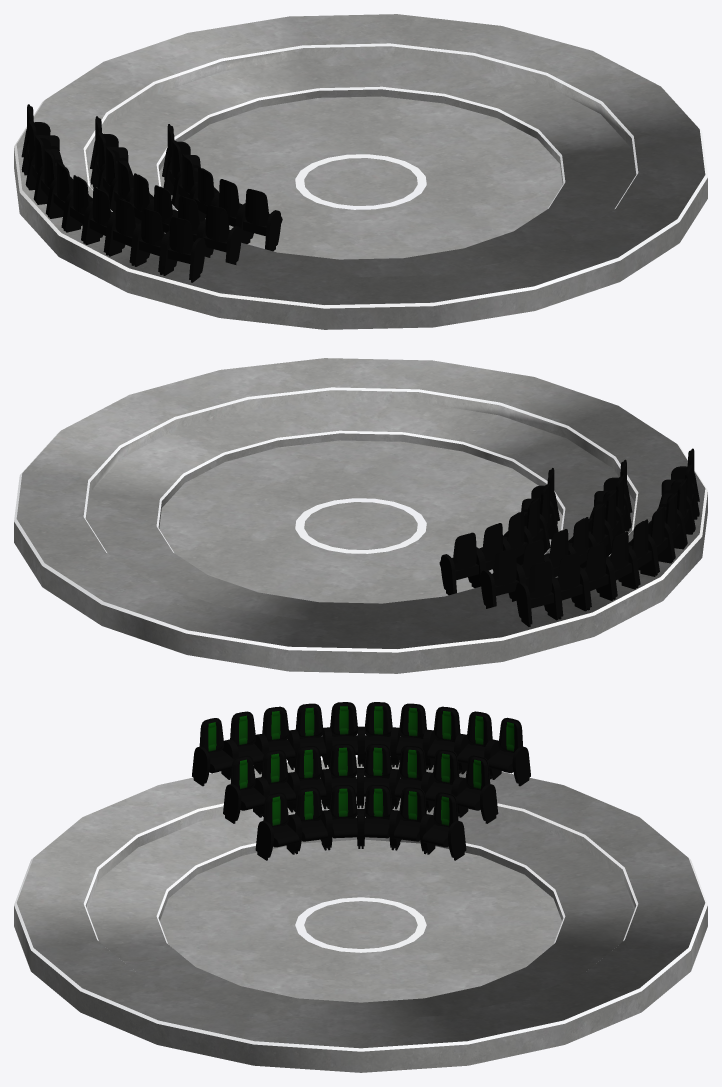
Rendered from UniSeatsTesting.glb.
3 renders of one model, top to bottom at view 1: azimuth 30°, elevation 25°; view 2: azimuth 150°, elevation 25°; view 3: azimuth 270°, elevation 25°, orthographic.
Parts seen in each view (by area): view 1: TestGround.001, ChairTest14, ChairTest01, ChairTest06.001, ChairTest15, ChairTest16, ChairTest17, ChairTest18, ChairTest19, ChairTest02, ChairTest03, ChairTest20 (+13 smaller); view 2: TestGround.001, ChairTest23, ChairTest06, ChairTest13, ChairTest22, ChairTest21, ChairTest20, ChairTest19, ChairTest18, ChairTest05, ChairTest04, ChairTest17 (+13 smaller); view 3: TestGround.001, ChairTest06, ChairTest01, ChairTest23, ChairTest06.001, ChairTest13, ChairTest14, ChairTest04, ChairTest03, ChairTest02, ChairTest05, ChairTest19 (+13 smaller).
Part boxes in pixels (x1=…): TestGround.001: x1=14, y1=14, x2=707, y2=329; ChairTest14: x1=161, y1=217, x2=206, y2=282; ChairTest01: x1=238, y1=189, x2=282, y2=251; ChairTest06.001: x1=199, y1=205, x2=242, y2=264; ChairTest15: x1=132, y1=208, x2=169, y2=274; ChairTest16: x1=106, y1=198, x2=141, y2=265; ChairTest17: x1=83, y1=187, x2=115, y2=255; ChairTest18: x1=63, y1=175, x2=111, y2=243; ChairTest19: x1=47, y1=162, x2=92, y2=230; ChairTest02: x1=213, y1=179, x2=245, y2=226; ChairTest03: x1=191, y1=167, x2=219, y2=221; ChairTest20: x1=34, y1=148, x2=73, y2=217; TestGround.001: x1=14, y1=358, x2=707, y2=673; ChairTest23: x1=515, y1=561, x2=559, y2=626; ChairTest06: x1=439, y1=532, x2=483, y2=595; ChairTest13: x1=479, y1=548, x2=522, y2=608; ChairTest22: x1=552, y1=552, x2=588, y2=619; ChairTest21: x1=580, y1=542, x2=615, y2=610; ChairTest20: x1=606, y1=531, x2=638, y2=599; ChairTest19: x1=610, y1=519, x2=657, y2=587; ChairTest18: x1=628, y1=506, x2=674, y2=575; ChairTest05: x1=476, y1=523, x2=508, y2=570; ChairTest04: x1=503, y1=511, x2=530, y2=564; ChairTest17: x1=648, y1=492, x2=686, y2=561; TestGround.001: x1=14, y1=757, x2=707, y2=1072; ChairTest06: x1=422, y1=792, x2=466, y2=860; ChairTest01: x1=255, y1=792, x2=299, y2=860; ChairTest23: x1=487, y1=717, x2=530, y2=786; ChairTest06.001: x1=223, y1=755, x2=266, y2=823; ChairTest13: x1=454, y1=755, x2=498, y2=823; ChairTest14: x1=192, y1=718, x2=235, y2=786; ChairTest04: x1=361, y1=784, x2=395, y2=850; ChairTest03: x1=326, y1=784, x2=360, y2=850; ChairTest02: x1=293, y1=787, x2=329, y2=854; ChairTest05: x1=392, y1=787, x2=428, y2=854; ChairTest19: x1=361, y1=702, x2=395, y2=767.
Size of what is drawn, in the model's own units: 17.7 by 2.32 by 17.7.
Materials: 3 (3 with a texture image).
